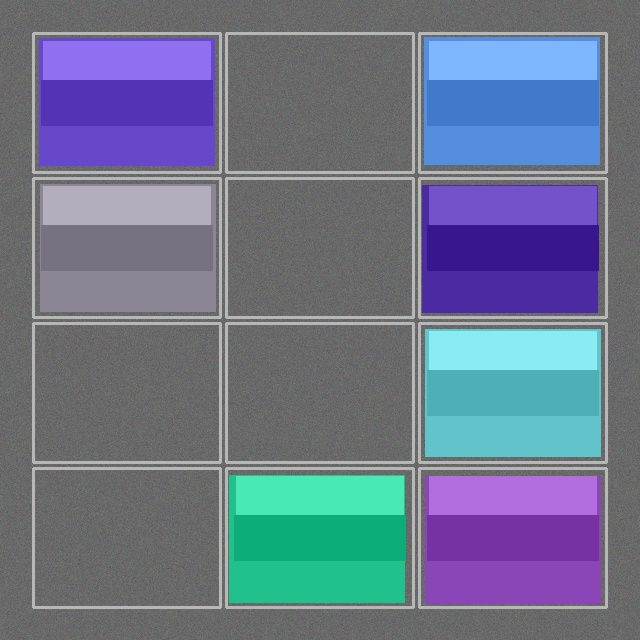space-empty: (228, 35, 411, 170), (228, 180, 411, 315), (35, 325, 218, 460), (228, 325, 411, 460), (35, 470, 218, 605)
space-occupied: (35, 35, 218, 170), (421, 35, 604, 170), (35, 180, 218, 315), (421, 180, 604, 315), (421, 325, 604, 460), (228, 470, 411, 605), (421, 470, 604, 605)
